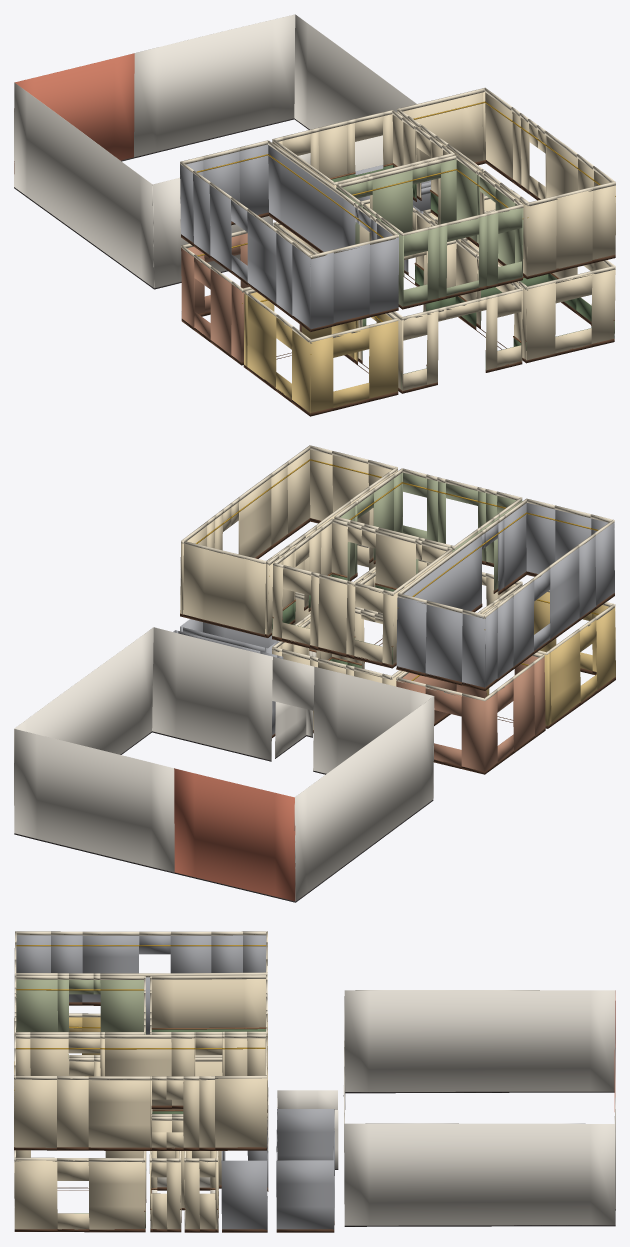
The model's file is Museum_Int_Wall_Finish.fbx.
3 views of the same model, one above another, from view 1: azimuth 30°, elevation 25°; view 2: azimuth 150°, elevation 25°; view 3: azimuth 270°, elevation 25° (orthographic). The views are drawn at different scales.
Parts seen in each view (by area): view 1: Int_UF_WallFinish, Int_Wing_WallFinish, Int_GF_WallFinish; view 2: Int_Wing_WallFinish, Int_UF_WallFinish, Int_GF_WallFinish; view 3: Int_Wing_WallFinish, Int_UF_WallFinish, Int_GF_WallFinish.
Boxes of the visible parts, x1,y1,x2,y2 form: Int_UF_WallFinish: (180,87,615,331); Int_Wing_WallFinish: (14,14,416,289); Int_GF_WallFinish: (181,165,615,416); Int_Wing_WallFinish: (14,627,434,902); Int_UF_WallFinish: (180,445,614,690); Int_GF_WallFinish: (173,530,615,774); Int_Wing_WallFinish: (277,990,615,1226); Int_UF_WallFinish: (14,931,267,1150); Int_GF_WallFinish: (14,1013,334,1232).
Size of the model in its own units: 15.28 by 7.63 by 26.66.
